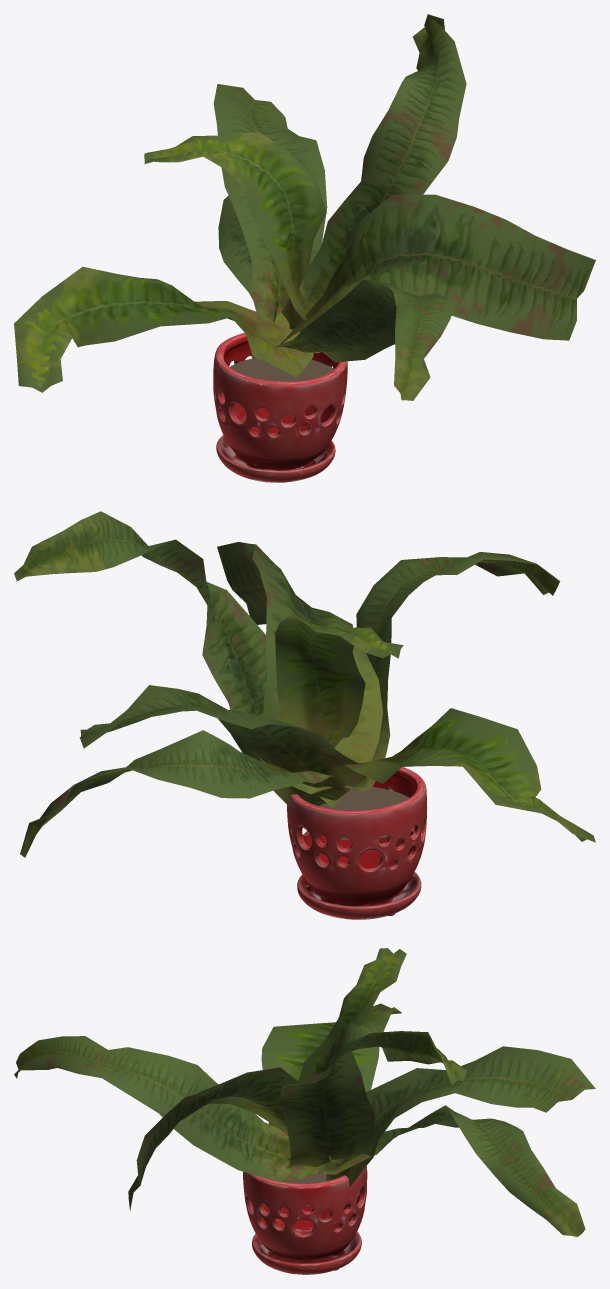
File: ph-fern-red.glb
3 renders of one model, top to bottom at view 1: azimuth 30°, elevation 25°; view 2: azimuth 150°, elevation 25°; view 3: azimuth 270°, elevation 25°, orthographic. The views are drawn at different scales.
Parts seen in each view (by area): view 1: fern_02_a, Down_To_Earth_Orchid_Pot_Ceramic_Red, soil; view 2: fern_02_a, Down_To_Earth_Orchid_Pot_Ceramic_Red, soil; view 3: fern_02_a, Down_To_Earth_Orchid_Pot_Ceramic_Red.
Boxes of the visible parts, x1,y1,x2,y2 form: fern_02_a: (14, 14, 595, 400); Down_To_Earth_Orchid_Pot_Ceramic_Red: (213, 332, 347, 482); soil: (230, 358, 333, 381); fern_02_a: (14, 511, 595, 857); Down_To_Earth_Orchid_Pot_Ceramic_Red: (287, 767, 427, 919); soil: (303, 787, 409, 839); fern_02_a: (14, 948, 595, 1236); Down_To_Earth_Orchid_Pot_Ceramic_Red: (243, 1166, 367, 1274).
Size of the model in its own units: 0.5519 by 0.3767 by 0.6134.
3 materials, 2 textured.
